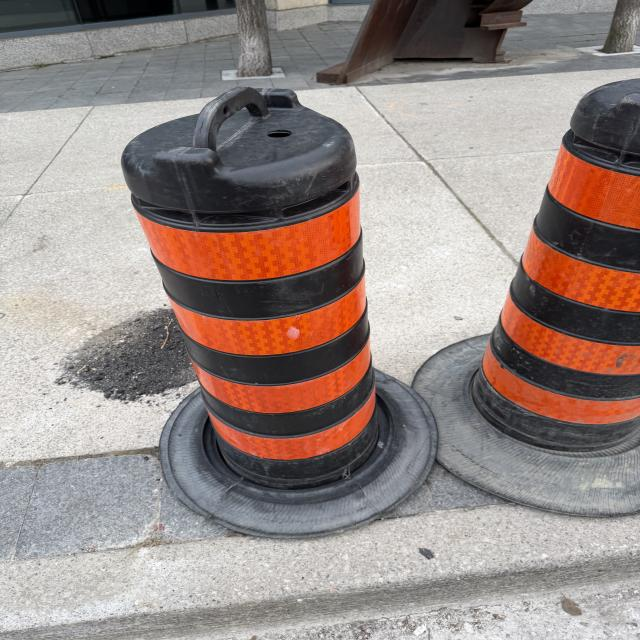Teraffic Barrel: (122, 88, 436, 537), (413, 80, 640, 516)
